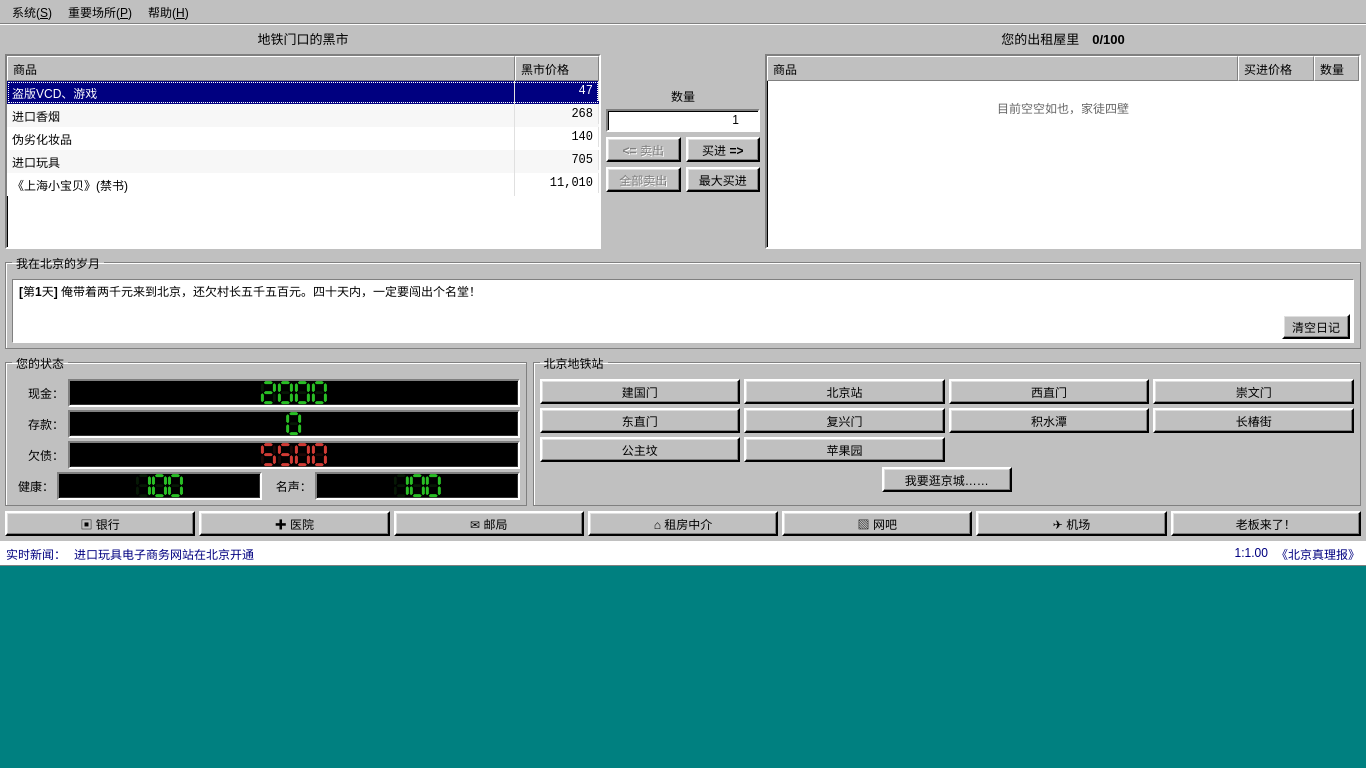
Test: GameWindow airport integration › opens help through the button menu sequence and shows canonical rules and item ids
This screenshot has width=1366, height=768.
Click the button "帮助(H)" at point(168, 12), box [140, 1, 197, 22]
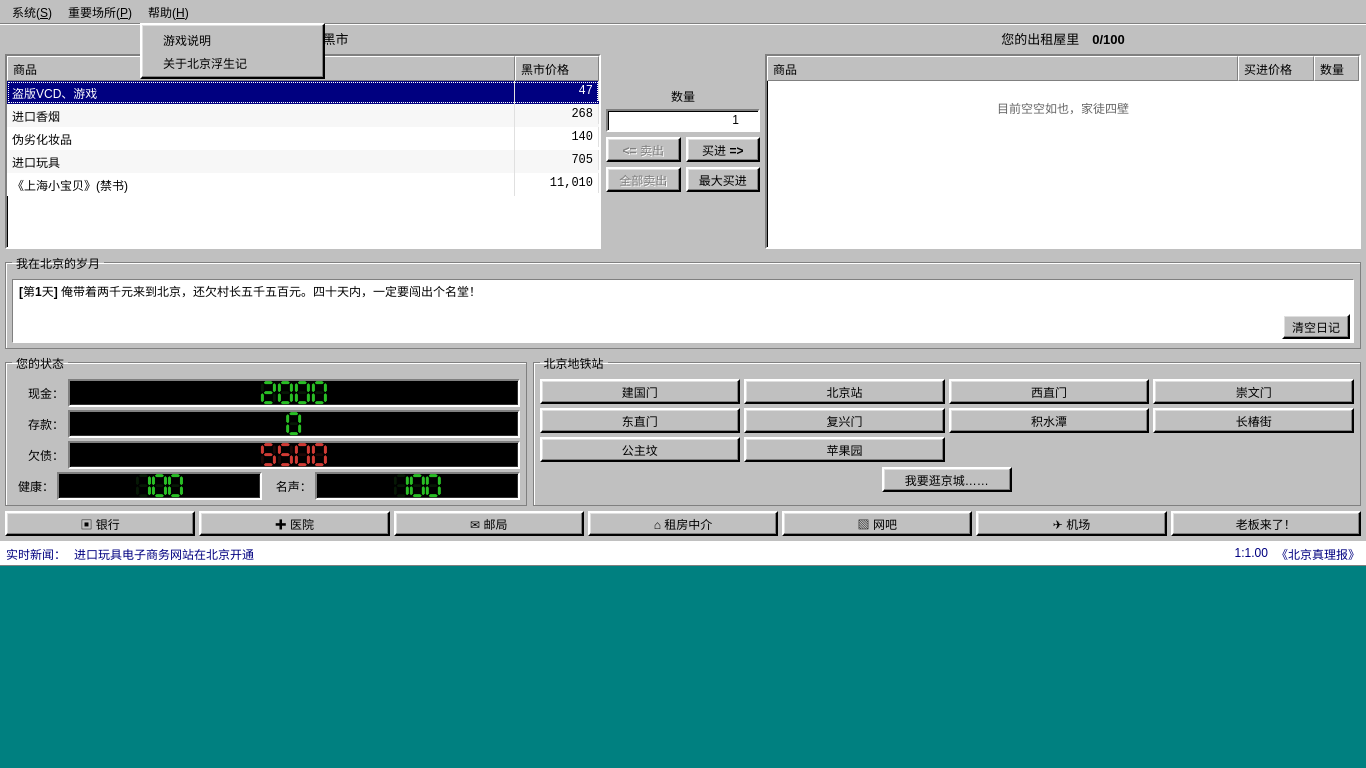
Click the menu item "游戏说明" at point(232, 40), box [145, 28, 320, 51]
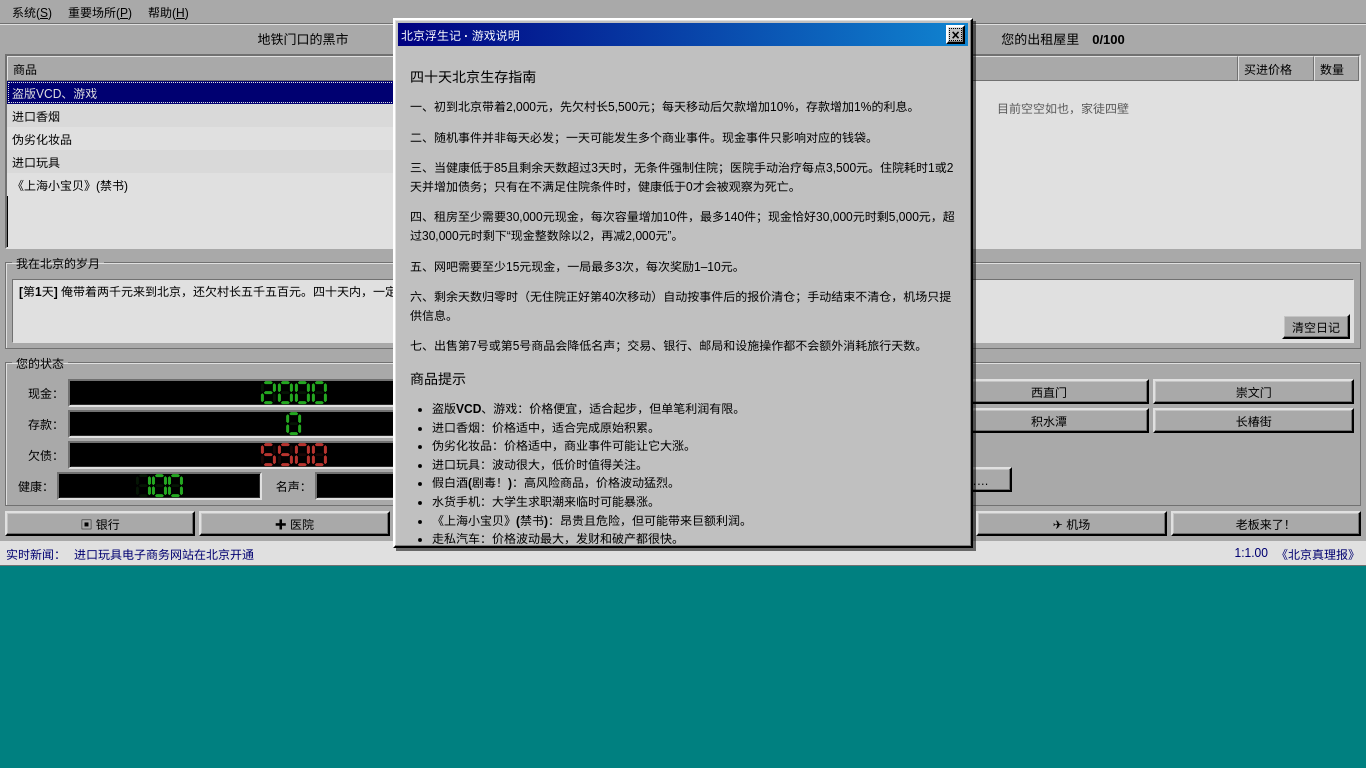
Result: the text "5,500" is shown at [410, 100, 919, 114]
Result: the text "10%" is shown at [410, 98, 956, 117]
Result: the text "1%" is shown at [410, 98, 956, 117]
